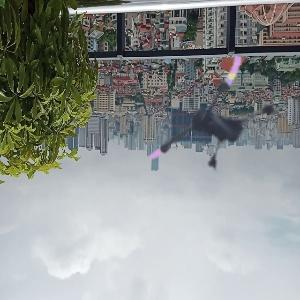drone: (150, 38, 300, 188)
